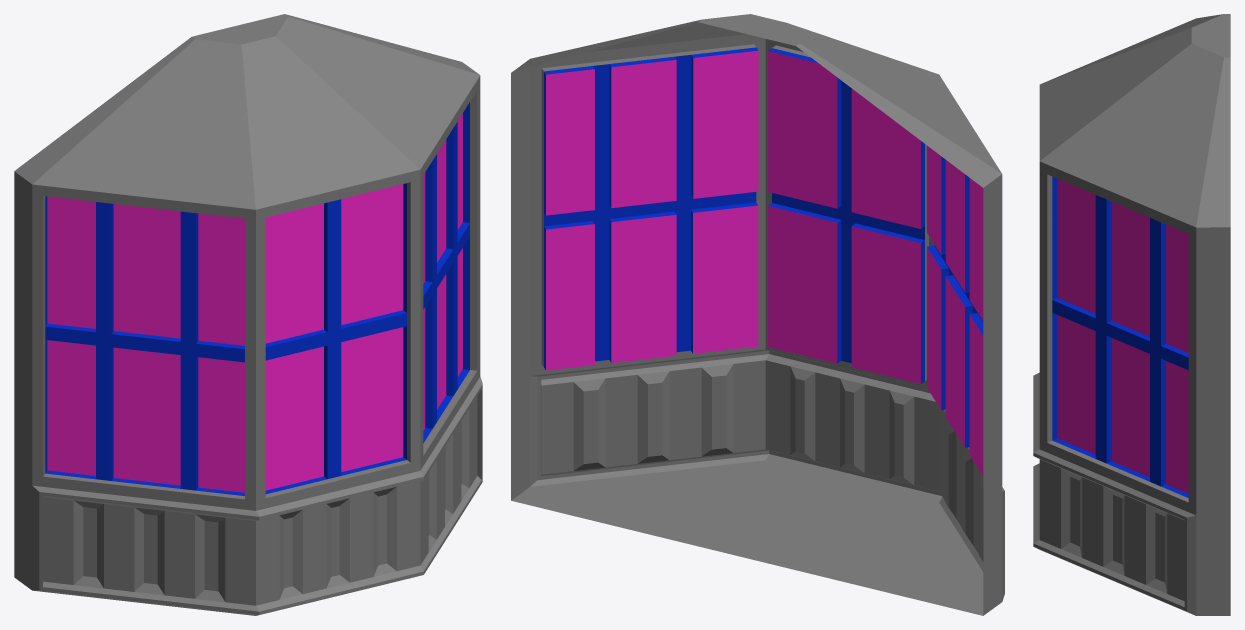
Rendered from MSH_BALCON.fbx.
The picture shows the model from 3 angles, left to right: view 1: azimuth 30°, elevation 25°; view 2: azimuth 150°, elevation 25°; view 3: azimuth 270°, elevation 25°; orthographic projection. The views are drawn at different scales.
Visible parts, largest first — view 1: verriere, fenetre verriere, bordure fenetre; view 2: verriere, fenetre verriere, bordure fenetre; view 3: verriere, fenetre verriere, bordure fenetre.
Part boxes in pixels (left/top/right/bottom): verriere: left=14, top=14, right=482, bottom=615; fenetre verriere: left=47, top=113, right=462, bottom=492; bordure fenetre: left=45, top=102, right=469, bottom=495; verriere: left=511, top=14, right=1004, bottom=615; fenetre verriere: left=546, top=50, right=983, bottom=475; bordure fenetre: left=544, top=47, right=983, bottom=447; verriere: left=1033, top=14, right=1230, bottom=615; fenetre verriere: left=1057, top=178, right=1188, bottom=493; bordure fenetre: left=1052, top=176, right=1188, bottom=497.
Bounding box in the file's own units: 4.67 × 4.96 × 1.87.
